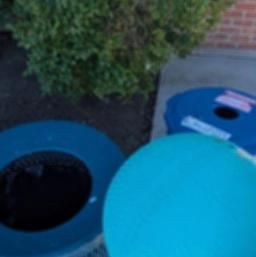algae: (99, 129, 256, 257)
